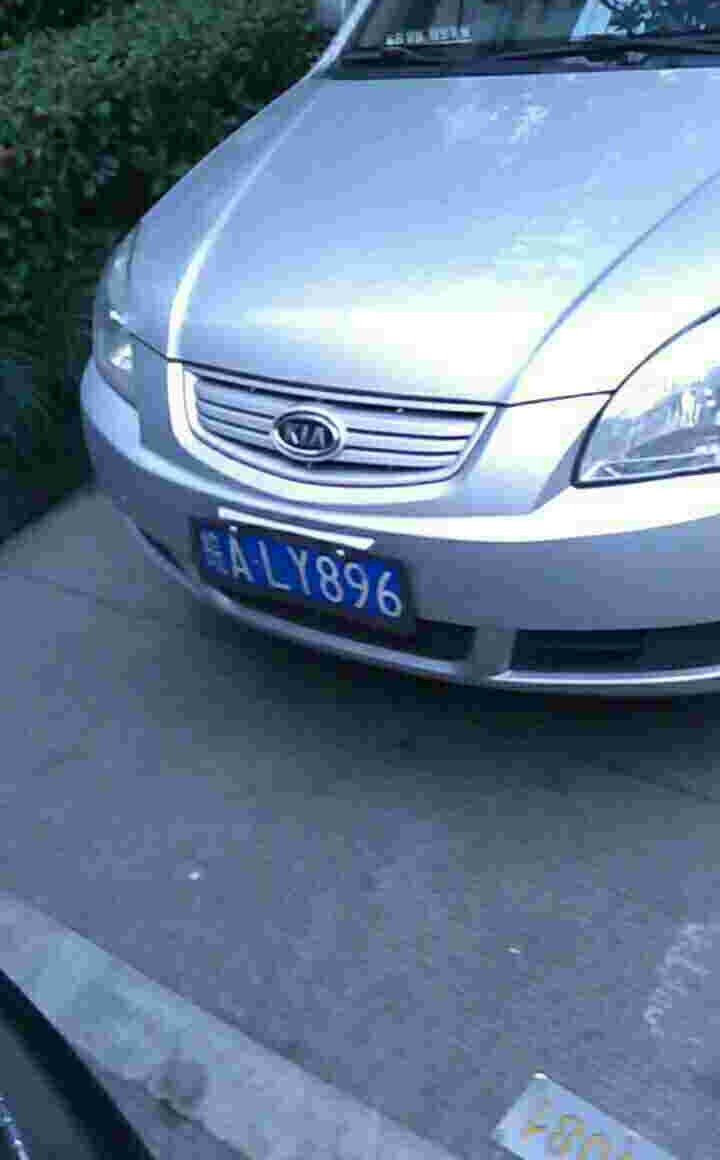plate: (184, 509, 420, 636)
